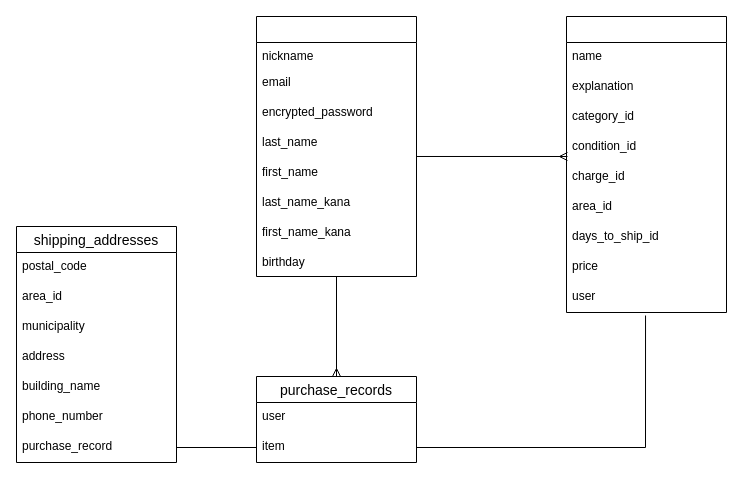
Image size: 743x479. Some labels were removed from this diagram. Here are the shapes that lost their labels. From the top down, the box of each, then its label:
(256, 16, 416, 276): users
(566, 16, 726, 312): items
